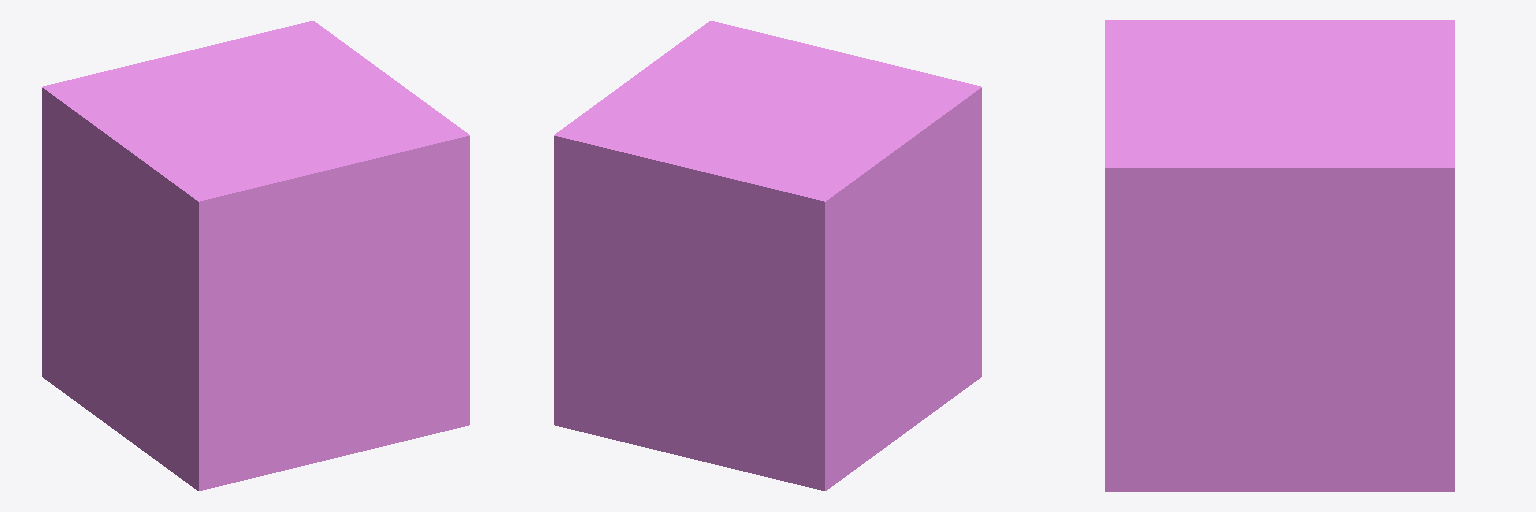
The robot description file, URDF, robot "ball":
<?xml version="0.0" ?>
<robot name="ball">
    <link name="wall">
        <contact>
            <lateral_friction value="1"/>
        </contact>

        <inertial>
            <origin xyz="0 0 0" rpy="0 0 0"/>
            <mass value="0.0"/>
            <inertia ixx="0"  ixy="0"  ixz="0" iyy="0" iyz="0" izz="0" />
        </inertial>

        <visual>
            <origin xyz="0 0 0" rpy="0 0 0" />
            <geometry>
                <box size="1.1 1.1 1.12" />
            </geometry>
            <material name="Orange">
                <color rgba="1.0 0.65 1.0 1.0"/>
            </material>
        </visual>

        <collision>
            <origin xyz="0 0 0" rpy="0 0 0"/>
            <geometry>
                <box size="1.1 1.1 1.12" />
            </geometry>
        </collision>
    </link>
</robot>

--- Render facts (derived) ---
The picture shows the robot from 3 angles, left to right: view 1: azimuth 30°, elevation 25°; view 2: azimuth 150°, elevation 25°; view 3: azimuth 270°, elevation 25°; orthographic projection.
Model ball with 1 links and 0 joints (none), rooted at wall, posed every joint at zero.
Visible links, largest first — view 1: wall; view 2: wall; view 3: wall.
Boxes of the visible links, left/top/right/bottom form: wall: left=42, top=21, right=469, bottom=490; wall: left=554, top=21, right=981, bottom=490; wall: left=1105, top=20, right=1454, bottom=491.
Size in the robot's own frame: 1.1 by 1.1 by 1.12 metres.
Geometry: primitives only (box / cylinder / sphere), no mesh files.